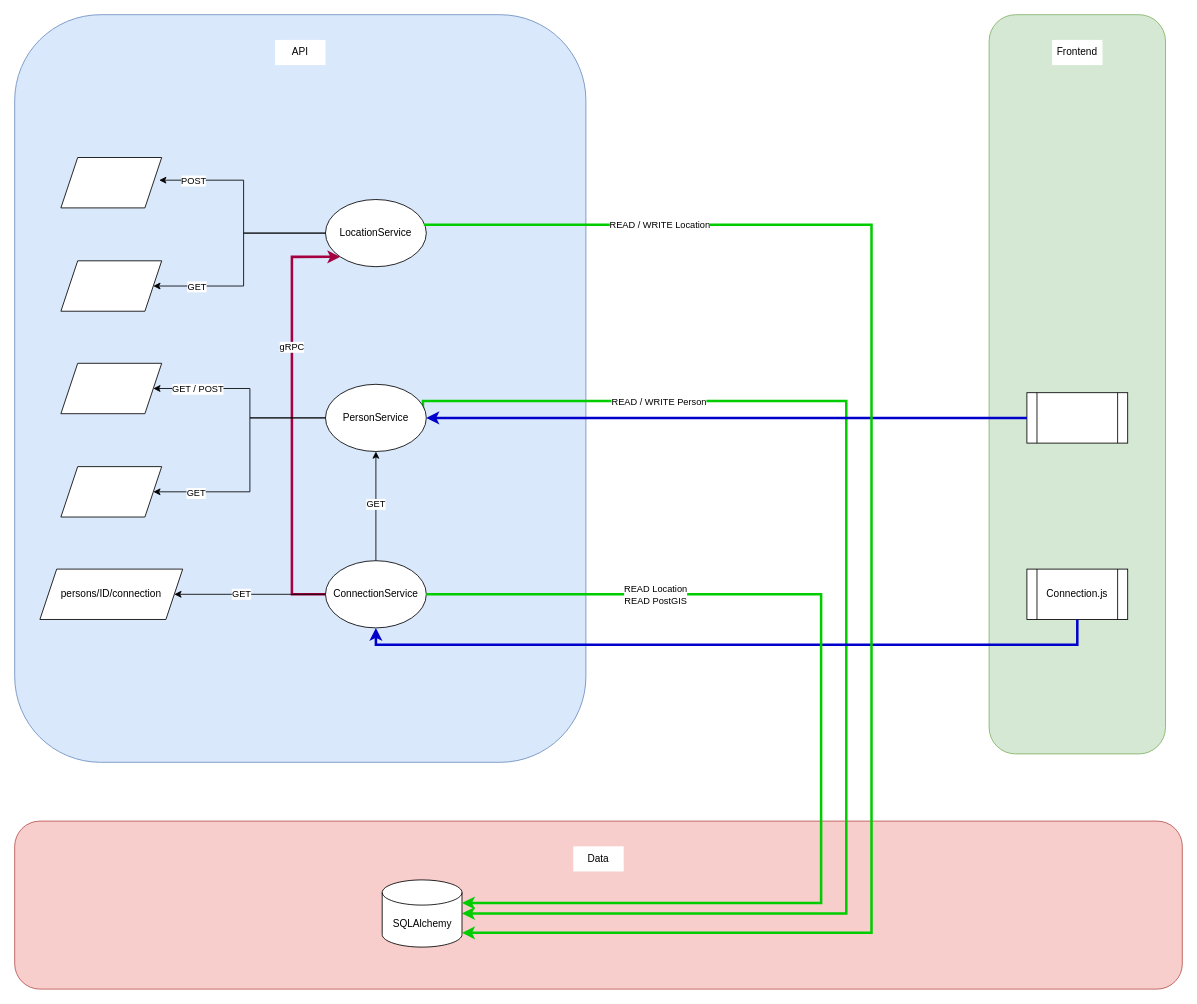
Image size: 1197x1004. Some labels were removed from this diagram. Each missing label, with the centre of its shape:
locations: the point at 111,182
locations/ID: the point at 111,285
persons: the point at 111,388
Persons.js: the point at 1077,417
persons/ID: the point at 111,491
